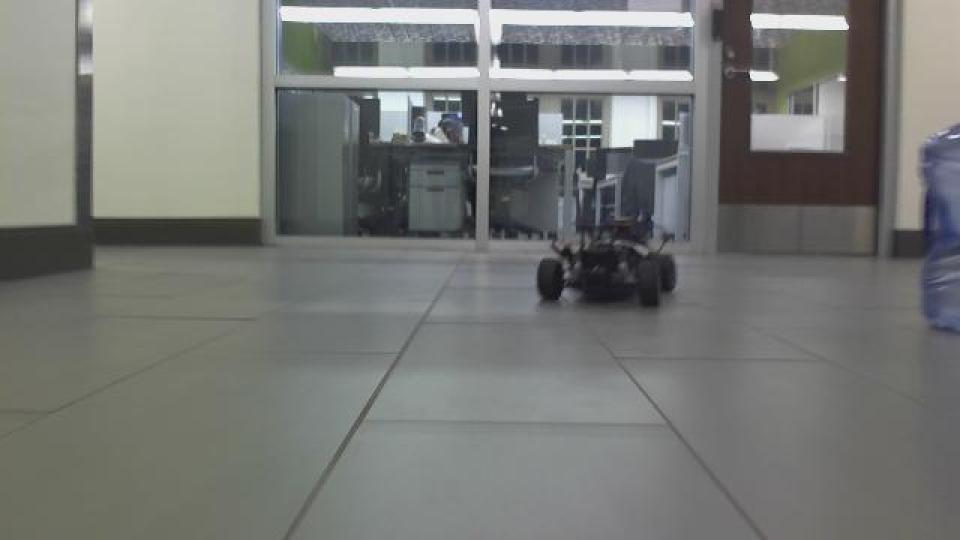car: (532, 212, 682, 310)
